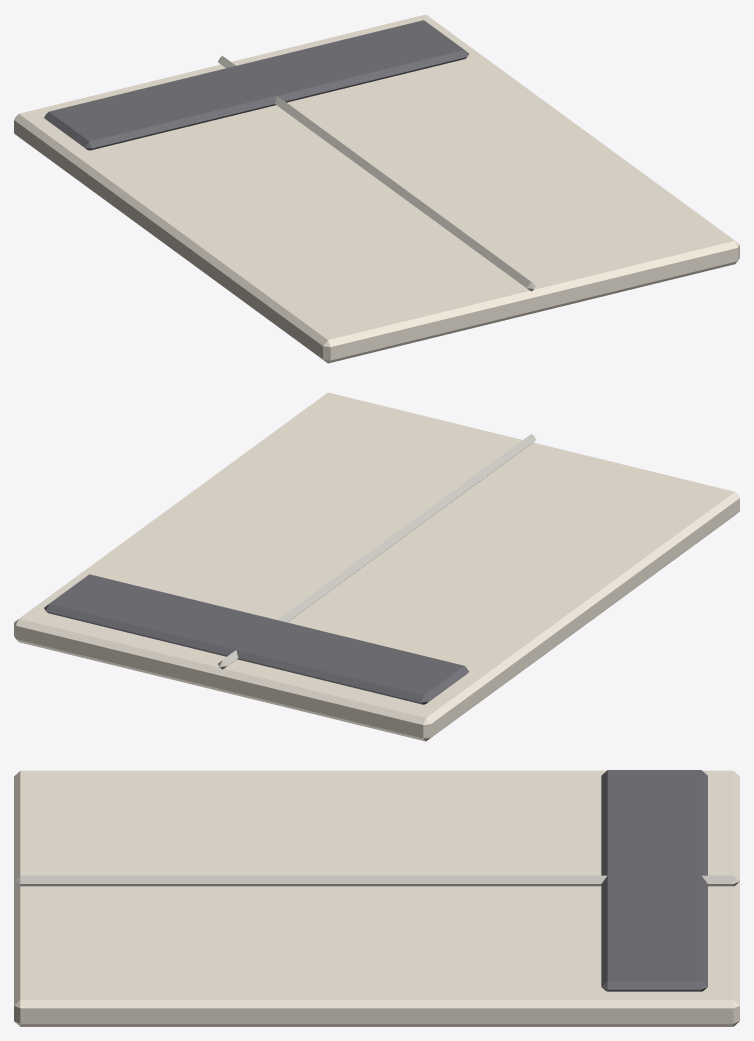
The model's file is SM_Newspaper.fbx.
3 renders of one model, top to bottom at view 1: azimuth 30°, elevation 25°; view 2: azimuth 150°, elevation 25°; view 3: azimuth 270°, elevation 25°, orthographic. The views are drawn at different scales.
Parts seen in each view (by area): view 1: Newspaper; view 2: Newspaper; view 3: Newspaper.
Part boxes in pixels (x1,y1,x2,y2): Newspaper: [14, 14, 739, 363]; Newspaper: [14, 392, 739, 741]; Newspaper: [14, 770, 739, 1026].
Size of the model in its own units: 26 by 1.9 by 34.
